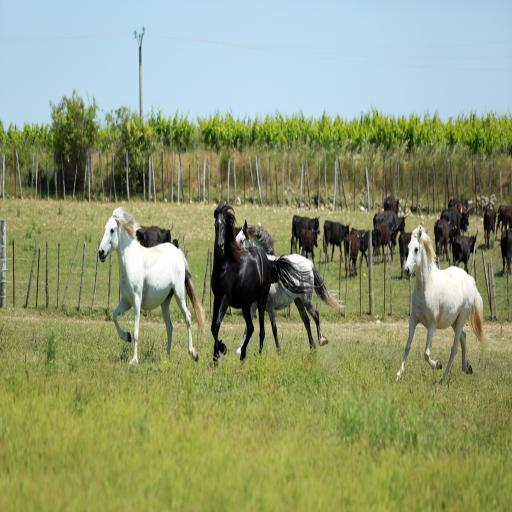horse: (97, 208, 205, 369), (210, 202, 316, 364), (234, 216, 345, 356), (395, 222, 489, 386)
